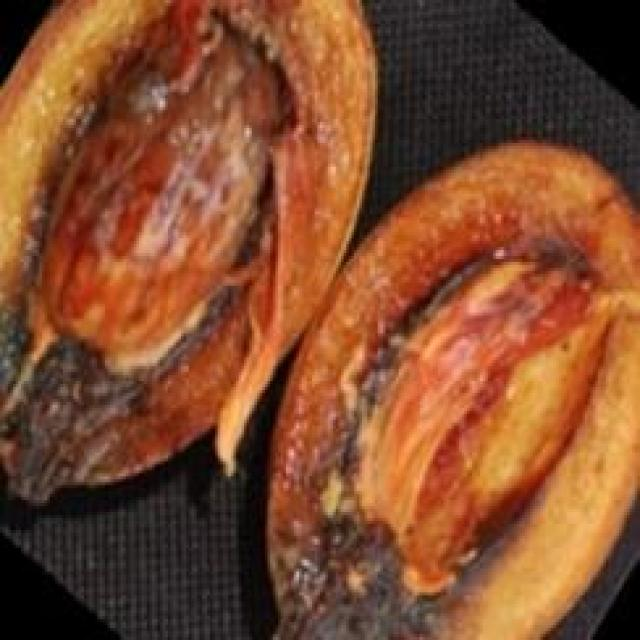damaged: (0, 0, 637, 637)
